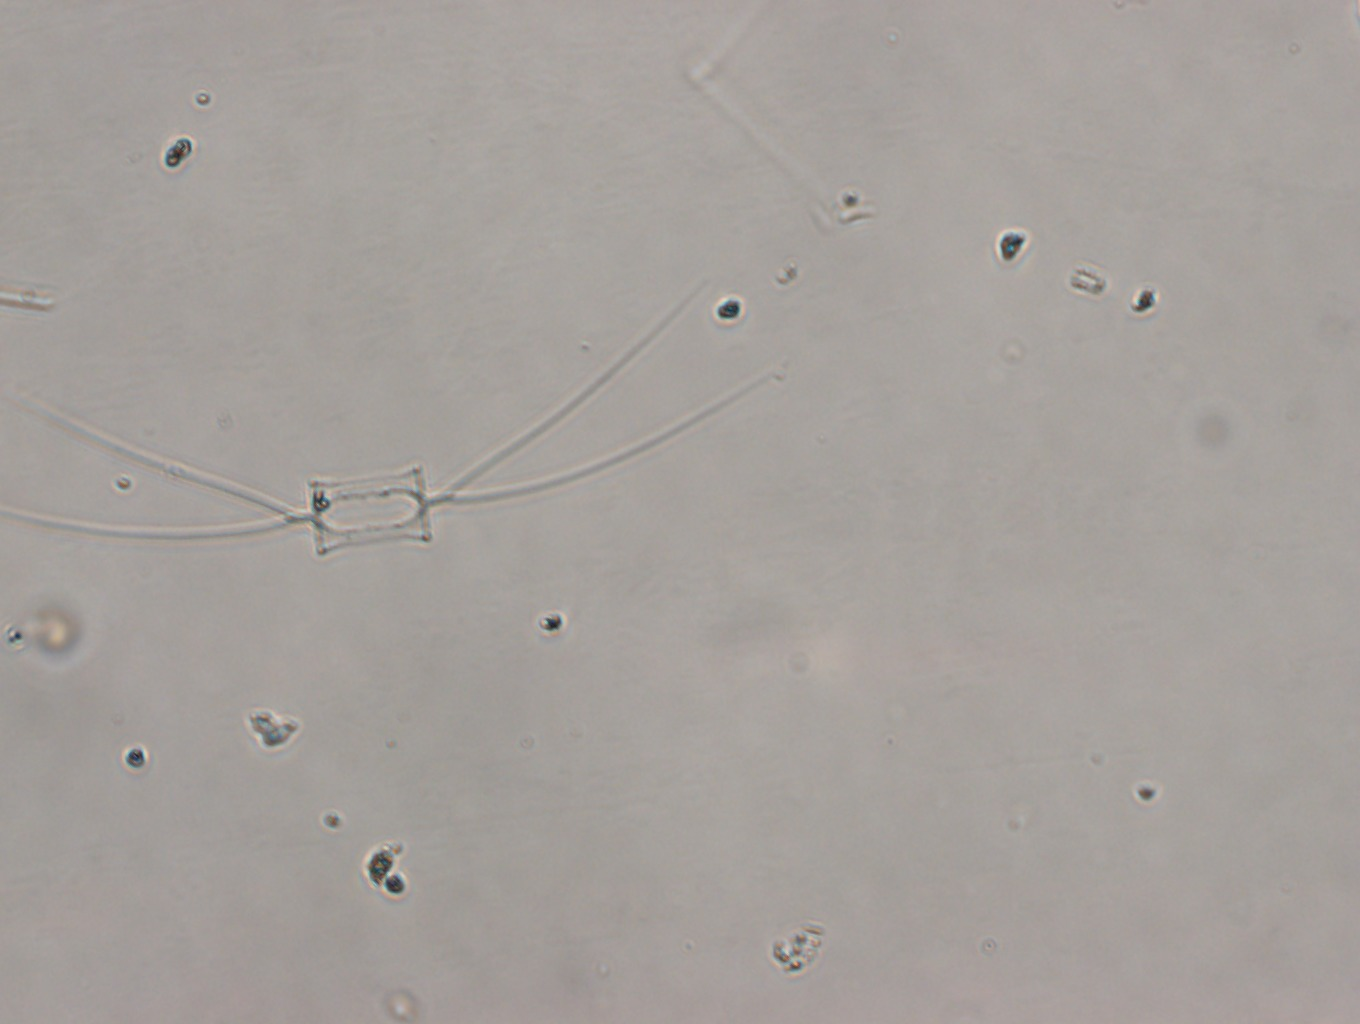chaetoceros: (1, 272, 777, 555)
